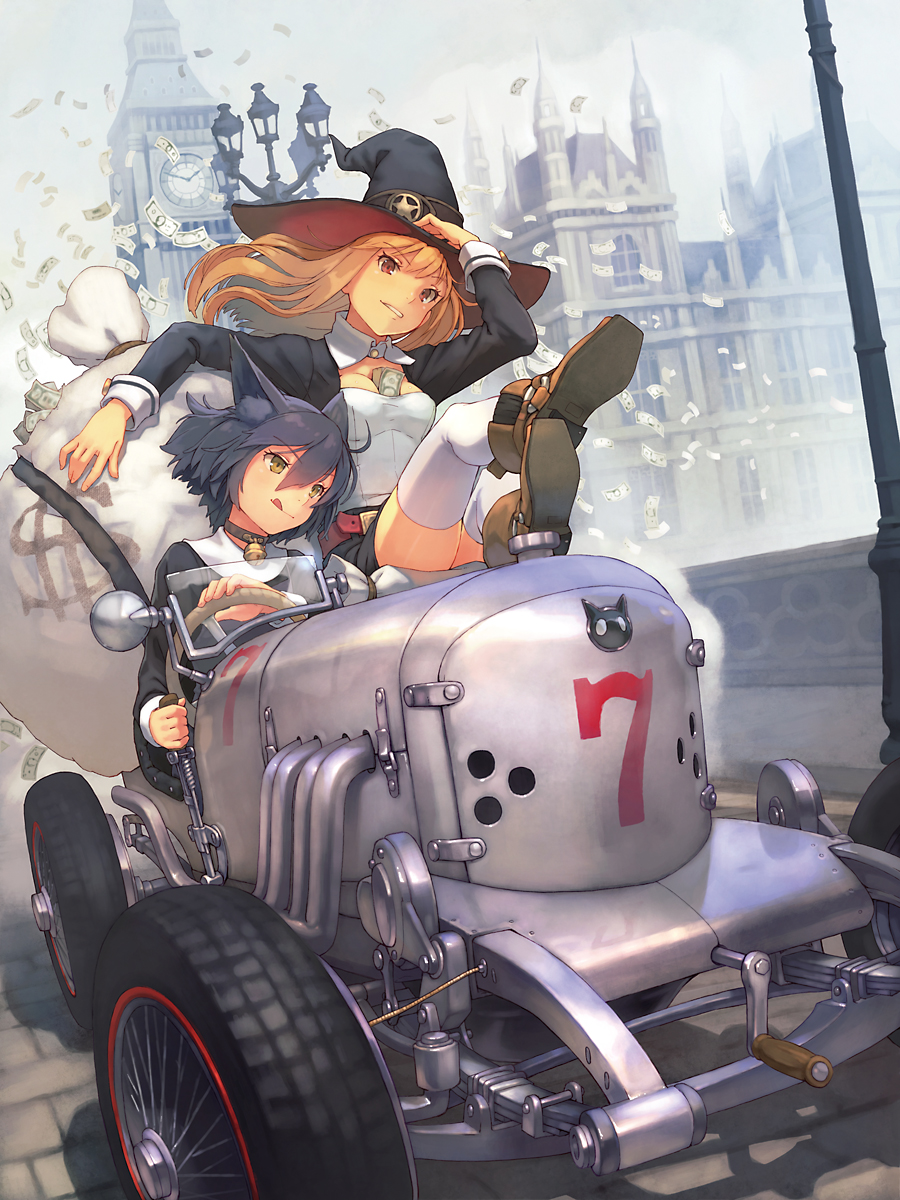anime face: (227, 421, 351, 537), (339, 233, 453, 335)
